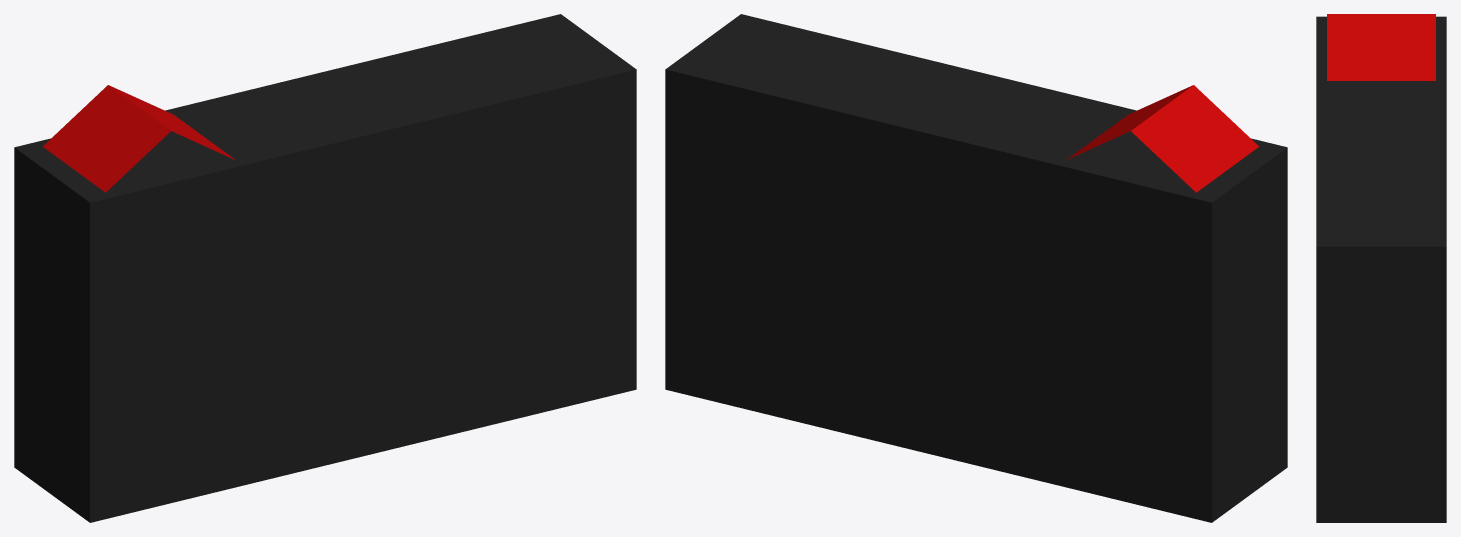
File: limit_switch.dae
3 views of the same model, side by side, from view 1: azimuth 30°, elevation 25°; view 2: azimuth 150°, elevation 25°; view 3: azimuth 270°, elevation 25° (orthographic). The views are drawn at different scales.
Parts seen in each view (by area): view 1: Endlagenschalter_1 (×2); view 2: Endlagenschalter_1 (×2); view 3: Endlagenschalter_1 (×2).
Part boxes in pixels (<box>): Endlagenschalter_1 (×2): <box>14,14,636,522</box>; Endlagenschalter_1 (×2): <box>665,14,1287,522</box>; Endlagenschalter_1 (×2): <box>1316,14,1446,522</box>.
Bounding box in the file's own units: 0.9843 × 0.2362 × 0.6299.
